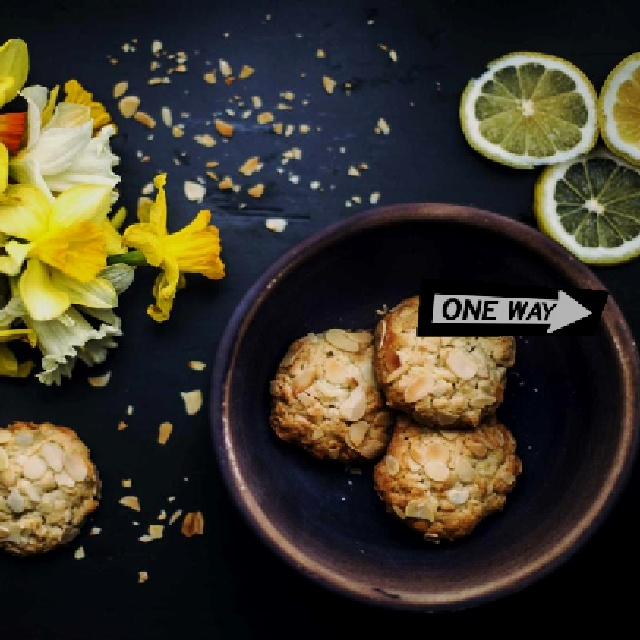ONE_WAY_ right: (414, 276, 608, 336)
